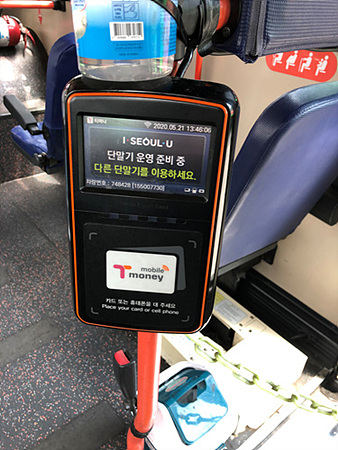terminal: (64, 79, 218, 321)
